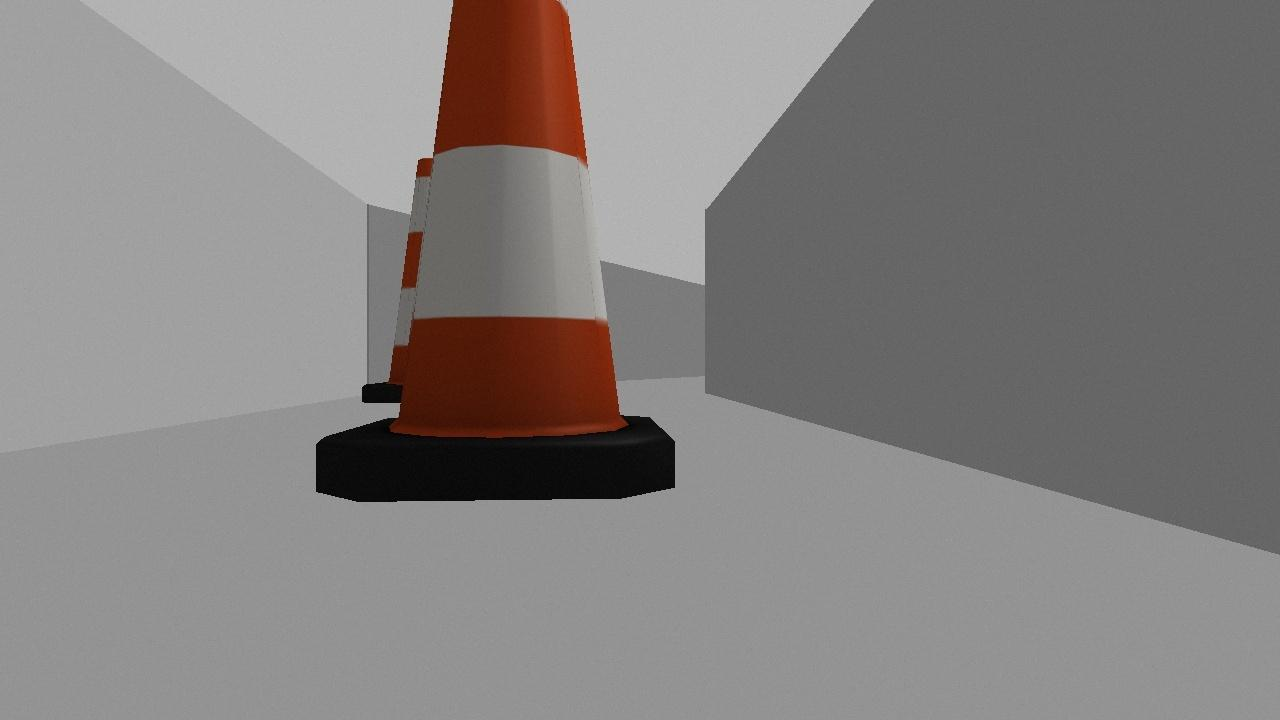cone_barrel: (312, 4, 674, 501), (359, 145, 494, 403)
